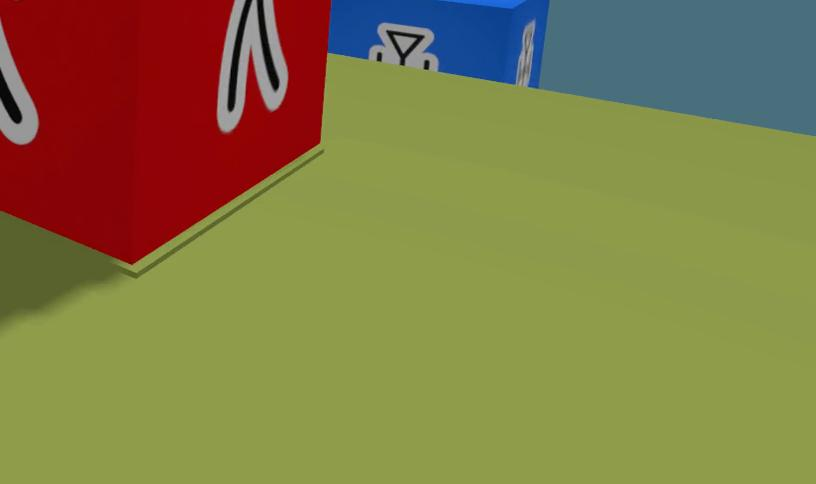KFS_FAKE: (0, 0, 331, 263), (217, 0, 287, 131), (0, 16, 37, 143)
KFS_REAL: (330, 0, 549, 85), (368, 24, 438, 70)
